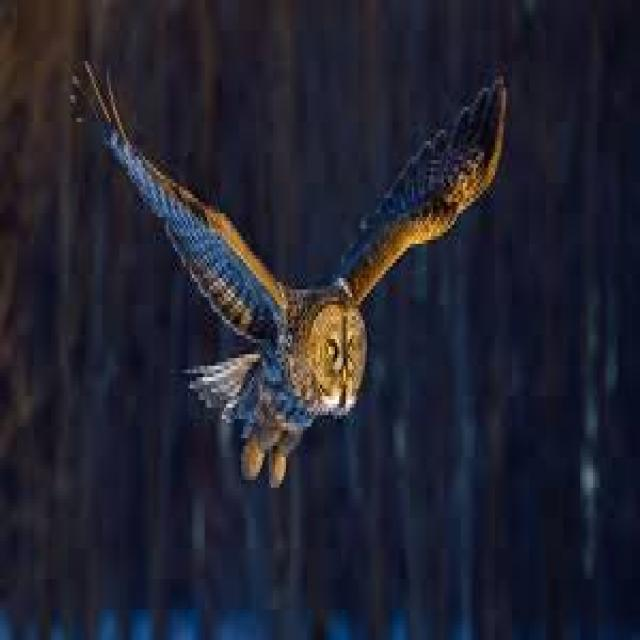Owl: (67, 41, 517, 488)
